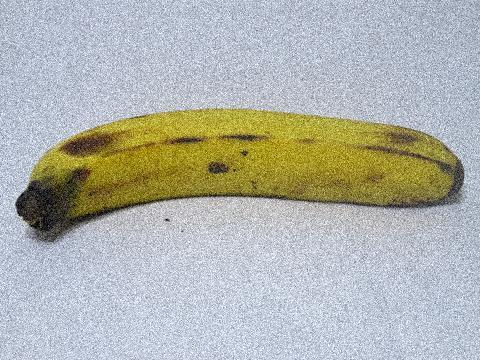ripe: (7, 94, 469, 253)
